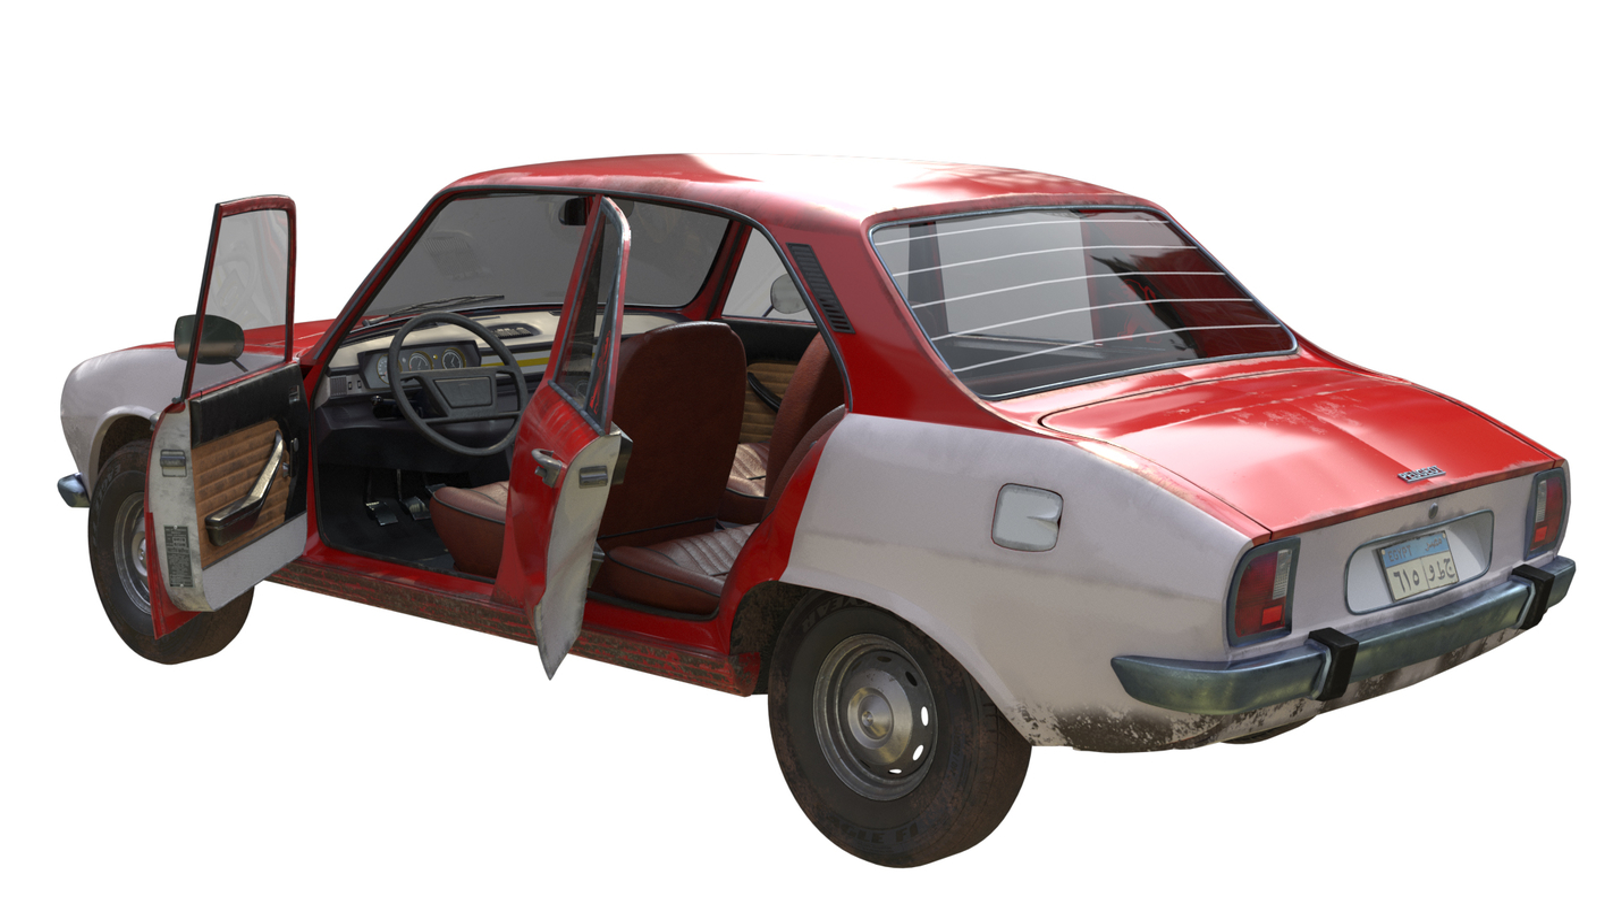hatch: (986, 473, 1070, 565)
